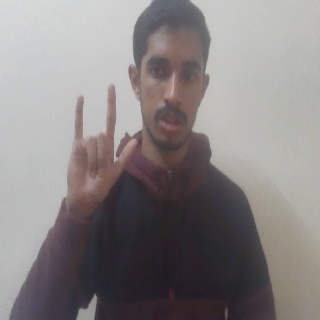Face: (127, 2, 211, 151)
I Love You: (64, 83, 139, 211)
